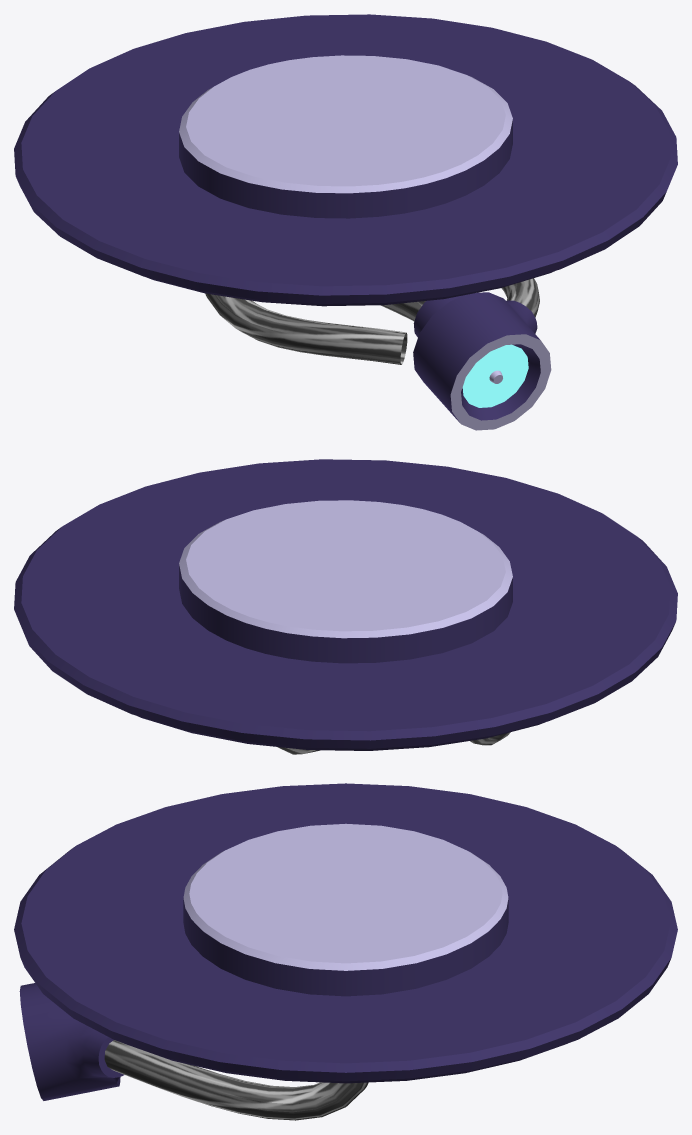
Rendered from BossShipBaseWreck.fbx.
3 renders of one model, top to bottom at view 1: azimuth 30°, elevation 25°; view 2: azimuth 150°, elevation 25°; view 3: azimuth 270°, elevation 25°, orthographic.
Parts seen in each view (by area): view 1: ShipBaseWreck; view 2: ShipBaseWreck; view 3: ShipBaseWreck.
Boxes of the visible parts, bbox=[...] form: ShipBaseWreck: bbox=[14, 14, 677, 430]; ShipBaseWreck: bbox=[14, 459, 677, 754]; ShipBaseWreck: bbox=[14, 783, 677, 1120].
Bounding box in the file's own units: 414 × 136 × 405.
